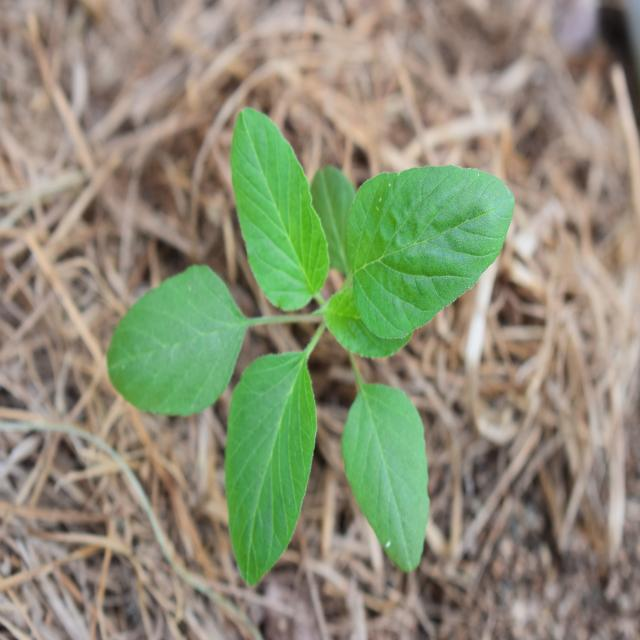pigweed: (118, 108, 524, 579)
